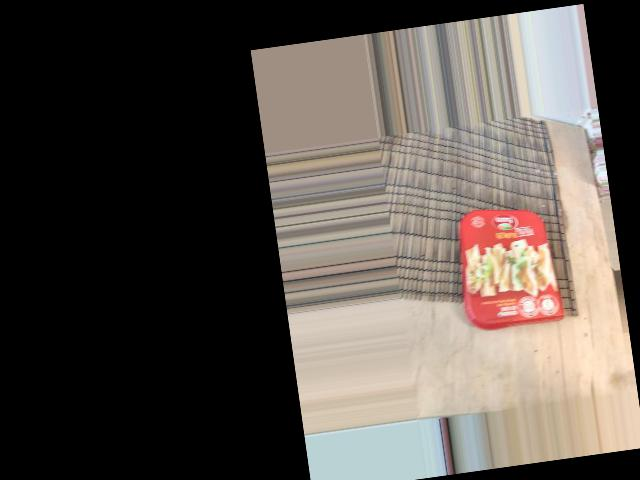cheese: (386, 186, 528, 292)
